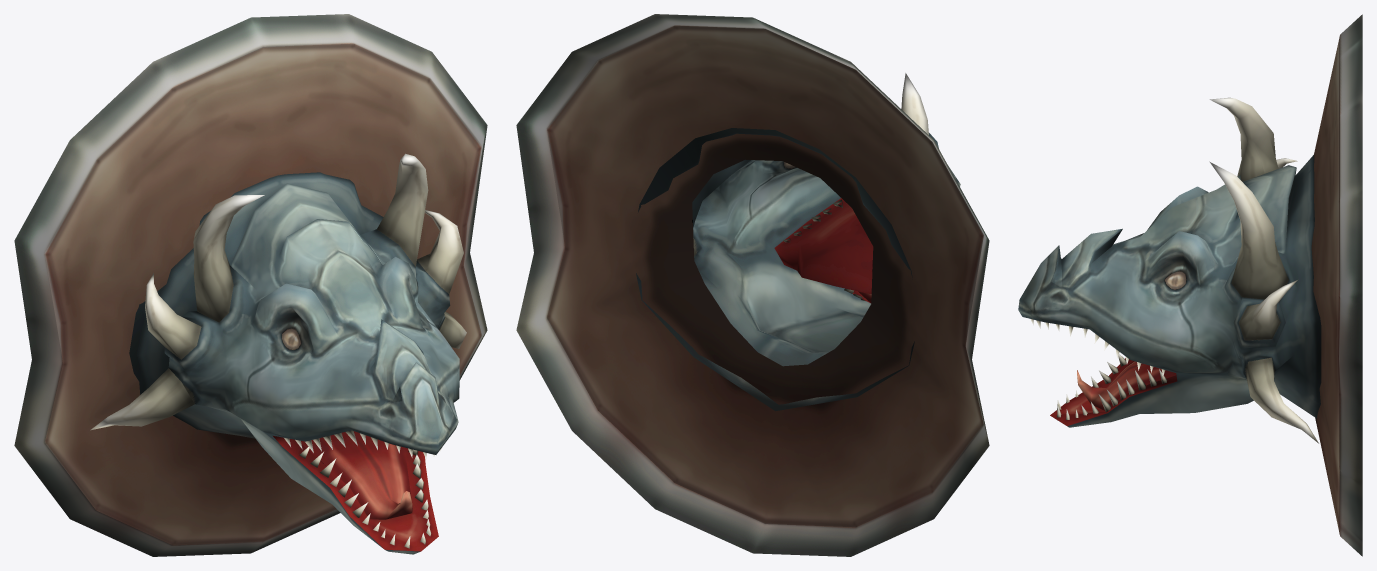
File: Trophy_dragon_mobile.fbx
3 renders of one model, left to right at view 1: azimuth 30°, elevation 25°; view 2: azimuth 150°, elevation 25°; view 3: azimuth 270°, elevation 25°, orthographic. The views are drawn at different scales.
Visible parts, largest first — view 1: Trophy_dragon_mobile; view 2: Trophy_dragon_mobile; view 3: Trophy_dragon_mobile.
Boxes of the visible parts, <box> form: Trophy_dragon_mobile: <box>14,14,487,556</box>; Trophy_dragon_mobile: <box>516,14,989,556</box>; Trophy_dragon_mobile: <box>1018,14,1362,556</box>.
Bounding box in the file's own units: 1.85 × 2 × 1.27.
